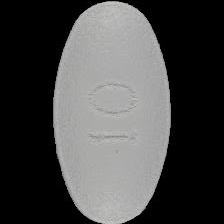49299-1090: (0, 0, 224, 224)
